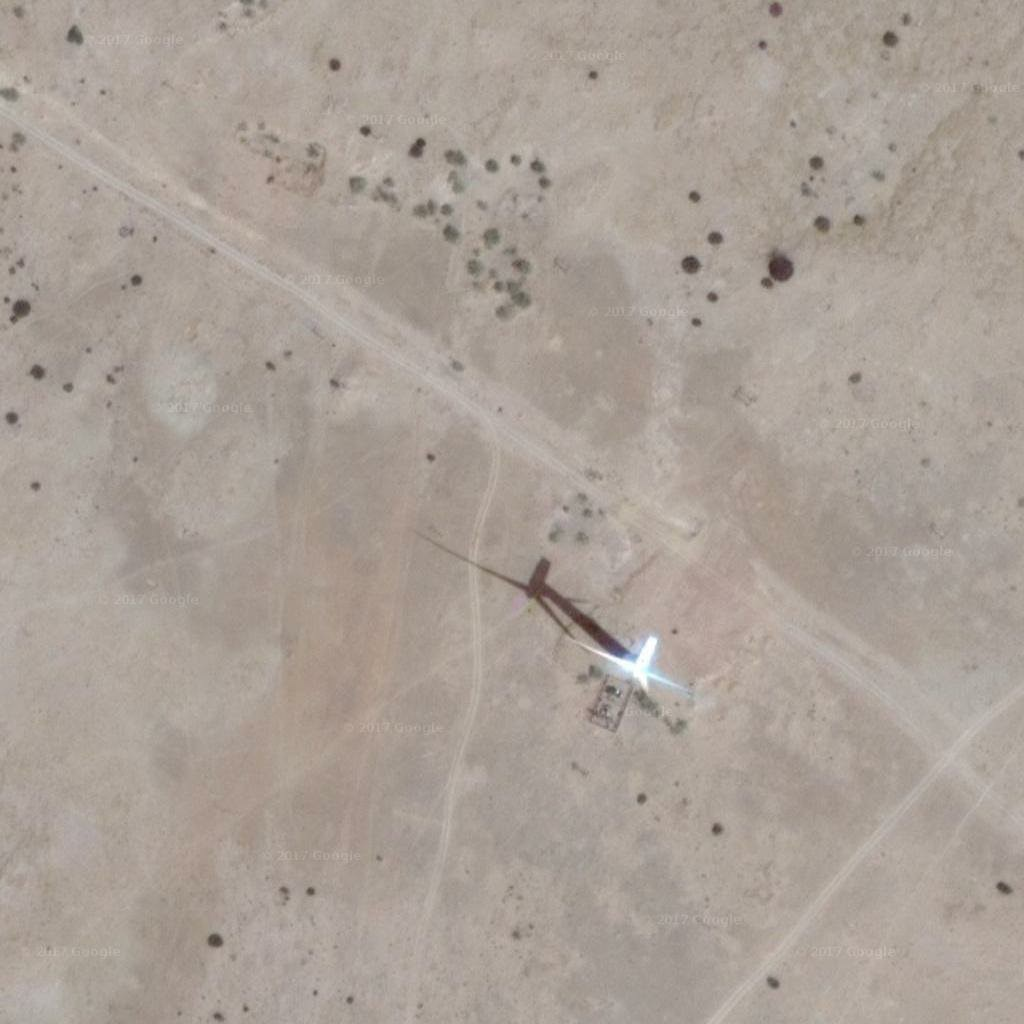Windmill: (411, 522, 664, 670)
